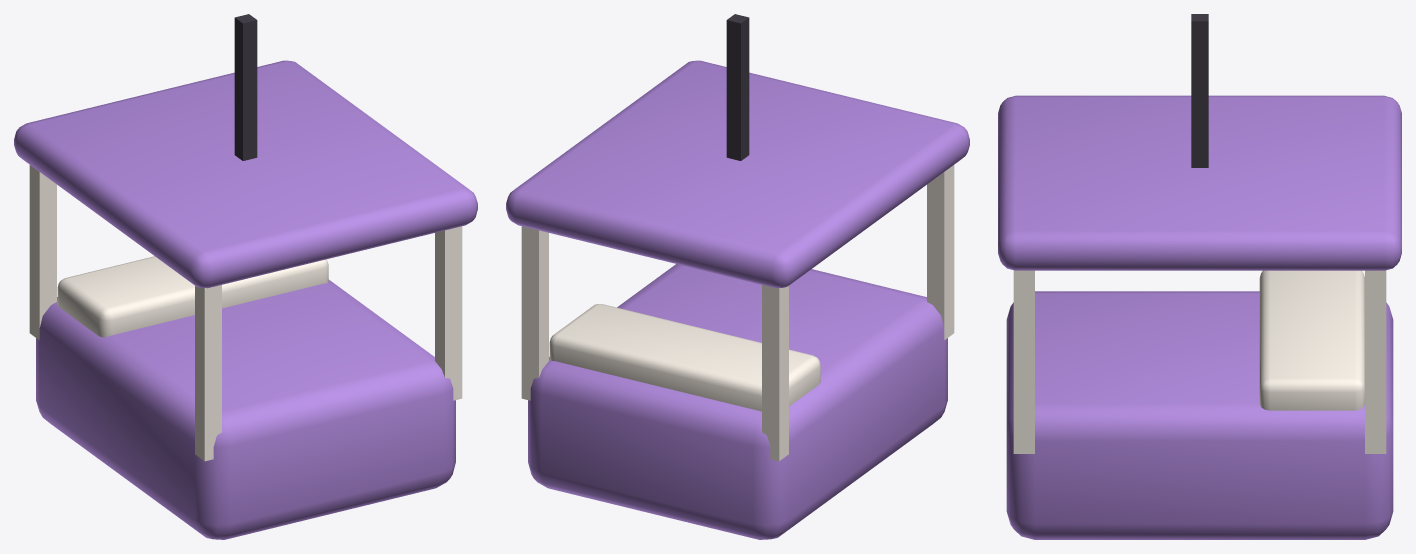
The model's file is ferris_gondola_a.glb.
3 renders of one model, left to right at view 1: azimuth 30°, elevation 25°; view 2: azimuth 150°, elevation 25°; view 3: azimuth 270°, elevation 25°, orthographic. The views are drawn at different scales.
Parts seen in each view (by area): view 1: ferris_gondola_a; view 2: ferris_gondola_a; view 3: ferris_gondola_a.
Boxes of the visible parts, x1,y1,x2,y2 form: ferris_gondola_a: [14, 14, 477, 539]; ferris_gondola_a: [506, 14, 969, 539]; ferris_gondola_a: [998, 14, 1401, 539].
Size of the model in its own units: 1 by 1.46 by 1.15.
